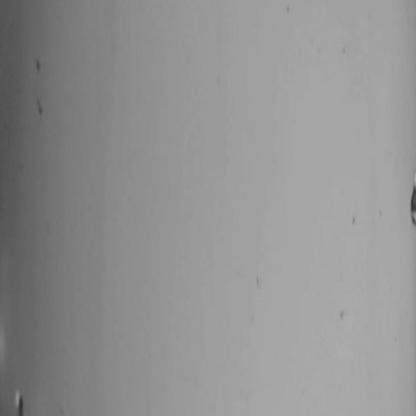kongdong: (3, 381, 45, 414), (407, 174, 416, 239)
